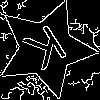K: (21, 23, 75, 80)
